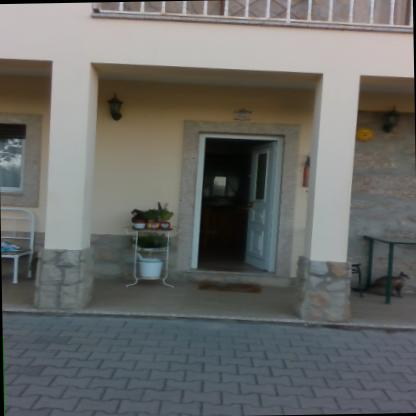open: (179, 122, 292, 284)
